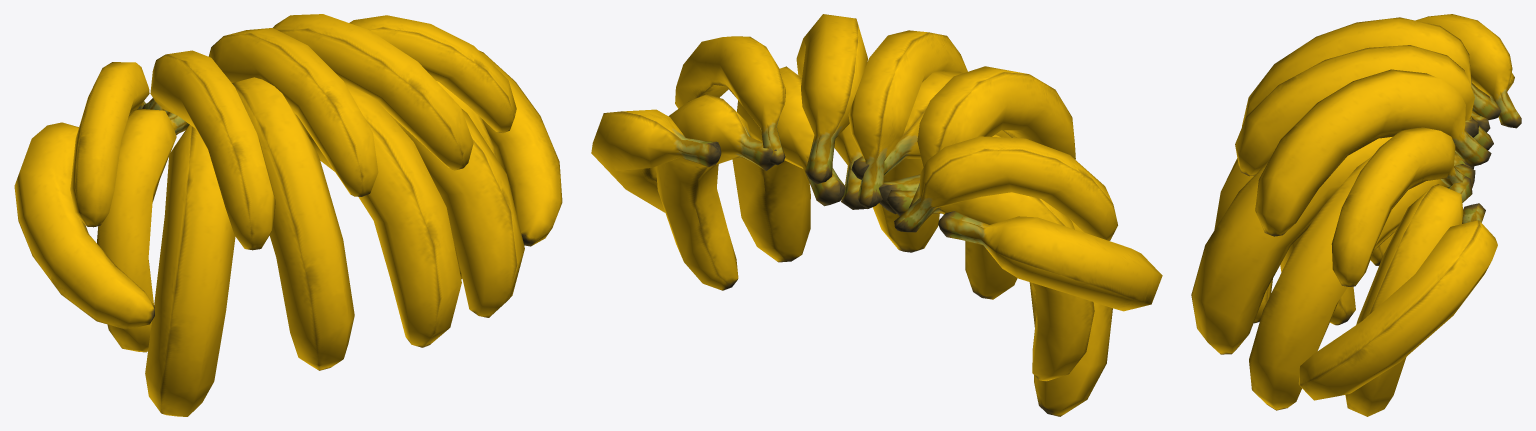
Rendered from BANANA_HAT.fbx.
3 views of the same model, side by side, from view 1: azimuth 30°, elevation 25°; view 2: azimuth 150°, elevation 25°; view 3: azimuth 270°, elevation 25° (orthographic). The views are drawn at different scales.
Visible parts, largest first — view 1: Banana_Low001, Banana_Low001.001, Banana_Low001.002, Banana_Low001.011, Banana_Low001.008, Banana_Low001.007, Banana_Low001.006, Banana_Low001.003, Banana_Low001.004, Banana_Low001.010, Banana_Low001.009, Banana_Low001.012 (+1 smaller); view 2: Banana_Low001.010, Banana_Low001.011, Banana_Low001.005, Banana_Low001.008, Banana_Low001.003, Banana_Low001.007, Banana_Low001.004, Banana_Low001.006, Banana_Low001.009, Banana_Low001.012, Banana_Low001, Banana_Low001.001 (+1 smaller); view 3: Banana_Low001.006, Banana_Low001.012, Banana_Low001.003, Banana_Low001.002, Banana_Low001.007, Banana_Low001.009, Banana_Low001.005, Banana_Low001.008, Banana_Low001.010, Banana_Low001.001, Banana_Low001, Banana_Low001.004.
Boxes of the visible parts, x1,y1,x2,y2 form: Banana_Low001: [145, 124, 235, 416]; Banana_Low001.001: [232, 77, 354, 370]; Banana_Low001.002: [300, 83, 461, 347]; Banana_Low001.011: [14, 122, 154, 329]; Banana_Low001.008: [142, 50, 275, 250]; Banana_Low001.007: [208, 28, 378, 196]; Banana_Low001.006: [273, 14, 473, 170]; Banana_Low001.003: [386, 108, 524, 317]; Banana_Low001.004: [97, 109, 189, 352]; Banana_Low001.010: [70, 62, 149, 227]; Banana_Low001.009: [349, 15, 516, 133]; Banana_Low001.012: [479, 50, 562, 246]; Banana_Low001.010: [894, 136, 1117, 240]; Banana_Low001.011: [938, 211, 1162, 311]; Banana_Low001.005: [656, 94, 776, 290]; Banana_Low001.008: [909, 66, 1075, 207]; Banana_Low001.003: [732, 66, 845, 262]; Banana_Low001.007: [848, 30, 967, 208]; Banana_Low001.004: [886, 190, 1094, 381]; Banana_Low001.006: [796, 14, 867, 183]; Banana_Low001.009: [675, 36, 785, 165]; Banana_Low001.012: [591, 109, 721, 212]; Banana_Low001: [879, 134, 1112, 416]; Banana_Low001.001: [851, 71, 1017, 299]; Banana_Low001.006: [1255, 69, 1491, 236]; Banana_Low001.012: [1298, 203, 1497, 400]; Banana_Low001.003: [1249, 156, 1475, 410]; Banana_Low001.002: [1191, 137, 1474, 354]; Banana_Low001.007: [1235, 45, 1493, 176]; Banana_Low001.009: [1331, 127, 1465, 286]; Banana_Low001.005: [1345, 176, 1472, 416]; Banana_Low001.008: [1242, 17, 1501, 126]; Banana_Low001.010: [1415, 14, 1521, 128]; Banana_Low001.001: [1214, 118, 1478, 323]; Banana_Low001: [1280, 230, 1355, 325]; Banana_Low001.004: [1370, 111, 1490, 265].
Size of the model in its own units: 25.17 by 16.1 by 14.26.
13 materials, 13 textured.
